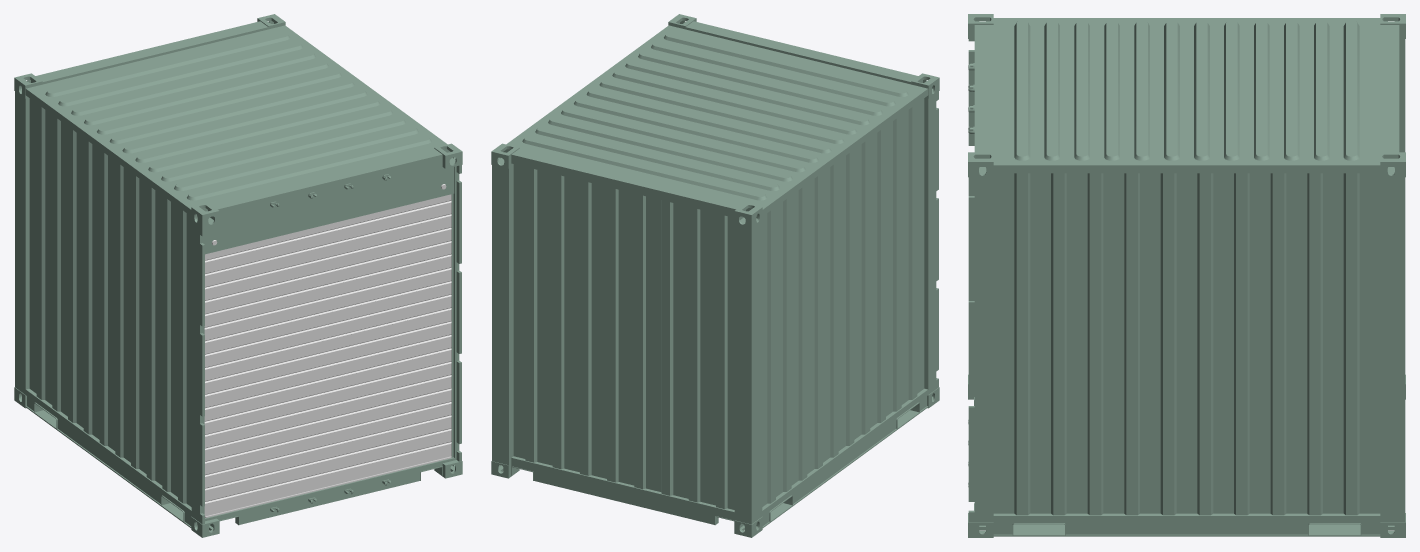
File: tool-crib-10.glb
The picture shows the model from 3 angles, left to right: view 1: azimuth 30°, elevation 25°; view 2: azimuth 150°, elevation 25°; view 3: azimuth 270°, elevation 25°; orthographic projection. The views are drawn at different scales.
Parts seen in each view (by area): view 1: Geom3D_6, Geom3D_4, Geom3D_7; view 2: Geom3D_6; view 3: Geom3D_6.
Boxes of the visible parts, x1,y1,x2,y2 form: Geom3D_6: [14, 14, 462, 537]; Geom3D_4: [204, 194, 451, 517]; Geom3D_7: [204, 184, 451, 517]; Geom3D_6: [491, 14, 939, 537]; Geom3D_6: [968, 14, 1405, 537].
Bounding box in the file's own units: 2.44 × 2.89 × 3.05.
